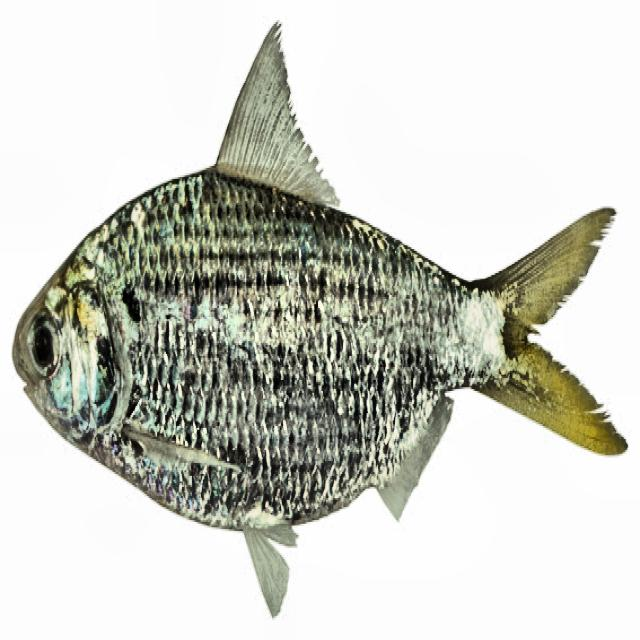fish: (11, 18, 628, 619)
